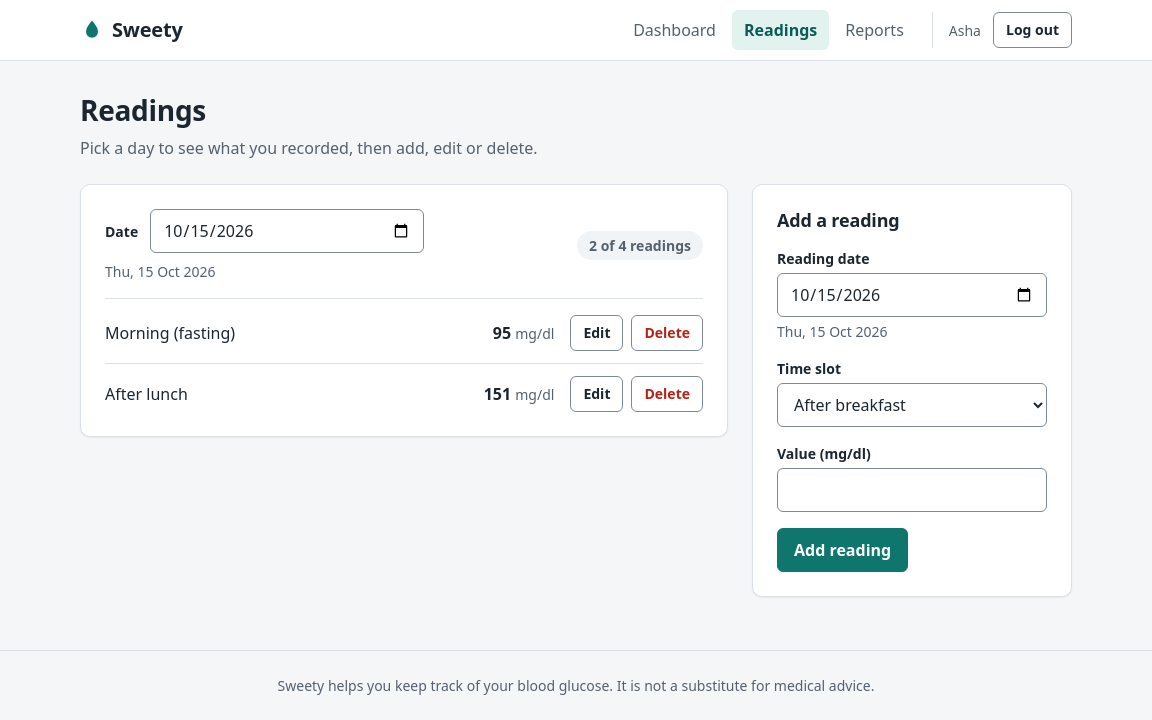
Scenario: Editing and deleting readings › asks before deleting, then deletes the reading and refreshes the list
The image size is (1152, 720).
Expected: the text "2 of 4 readings" is shown, [577,231,703,260]
Step 1. Click the button with aria-label "Delete After lunch reading" → (667, 394), box [632,376,703,412]
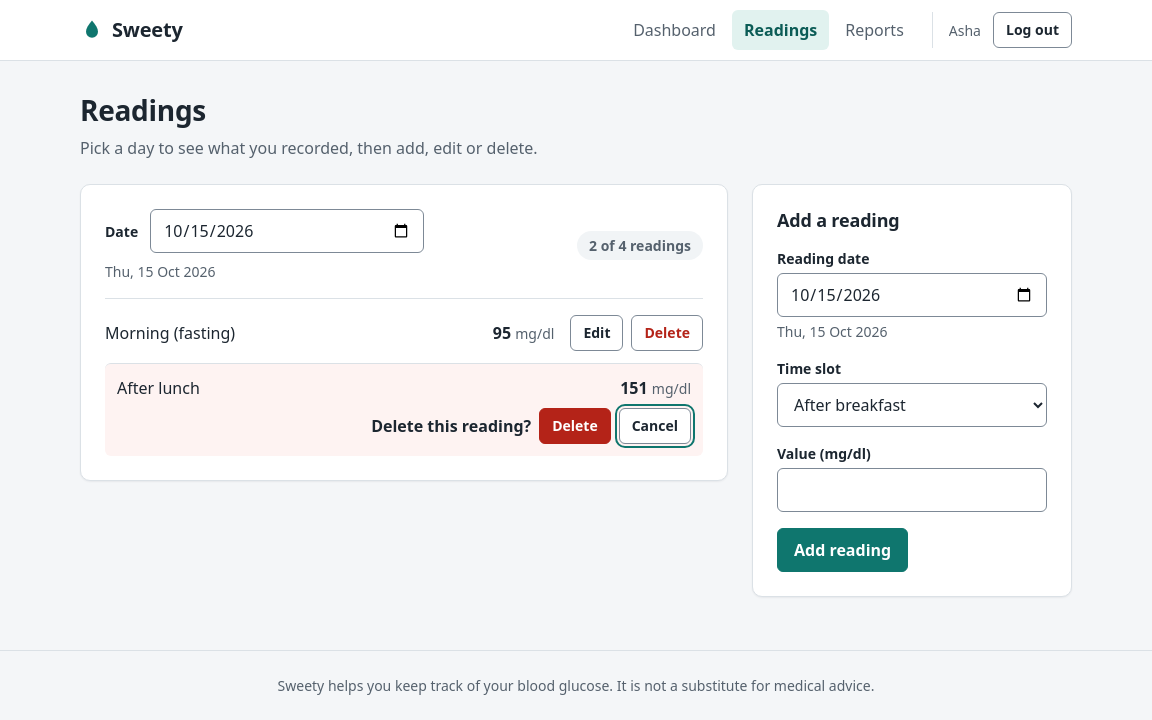
Now the element "Delete this reading?" is shown, box [371,408,691,444]
Step 2. Click the button "Delete" next to "Delete this reading?" → (575, 426), box [539,408,611,444]
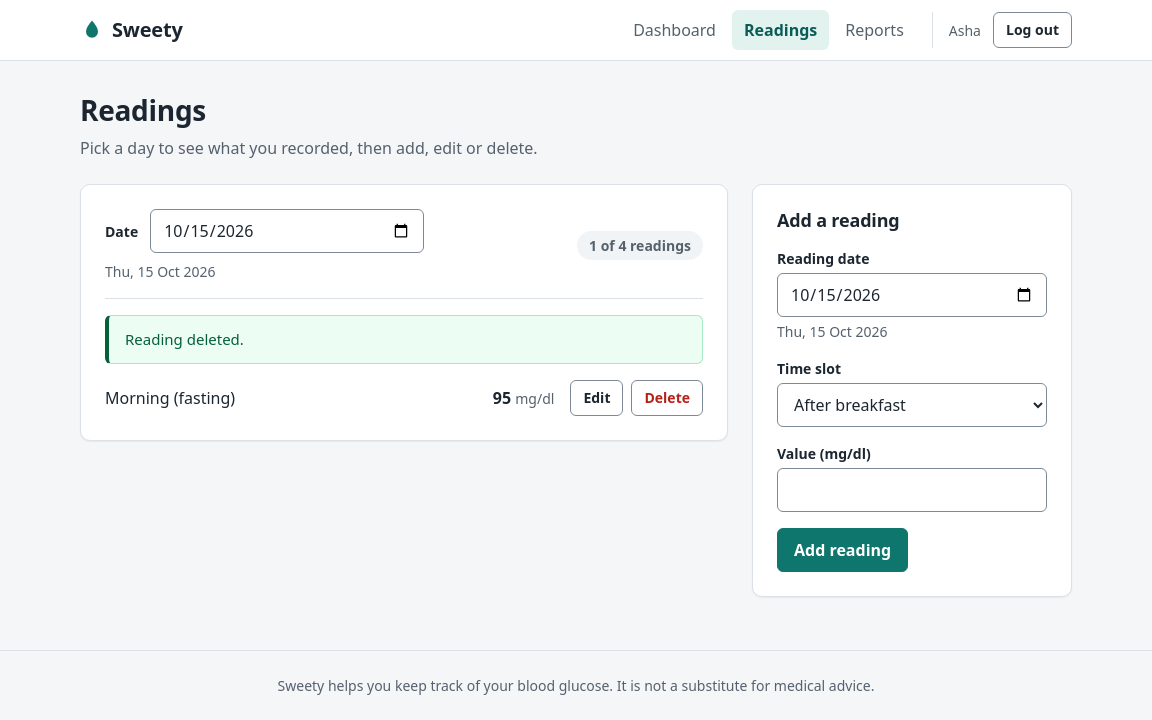
Now the text "1 of 4 readings" is shown, box [577,231,703,260]
